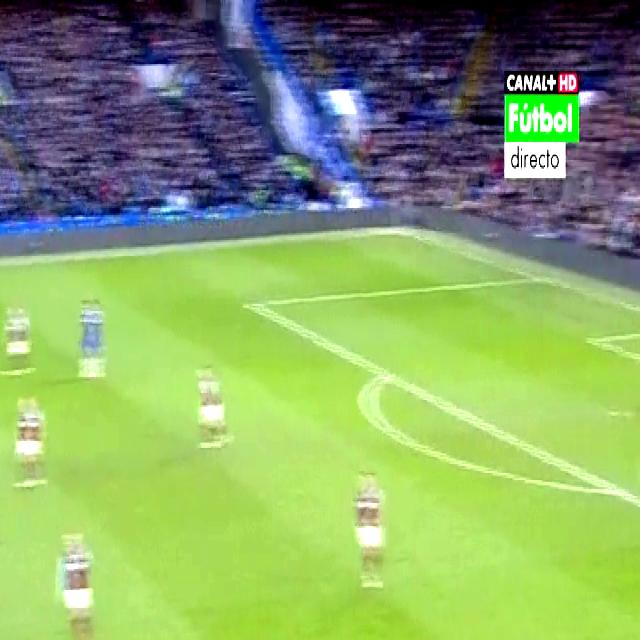soccer-player: (343, 456, 396, 598), (52, 515, 102, 640), (189, 350, 238, 462), (10, 383, 57, 499), (72, 280, 112, 387), (2, 286, 39, 381), (483, 638, 548, 640)
